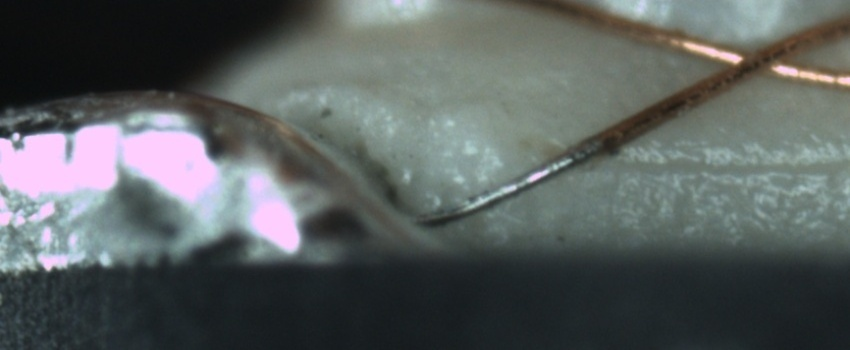CL: (698, 33, 821, 85)
DL: (609, 132, 849, 192)
TS: (413, 140, 605, 226)
